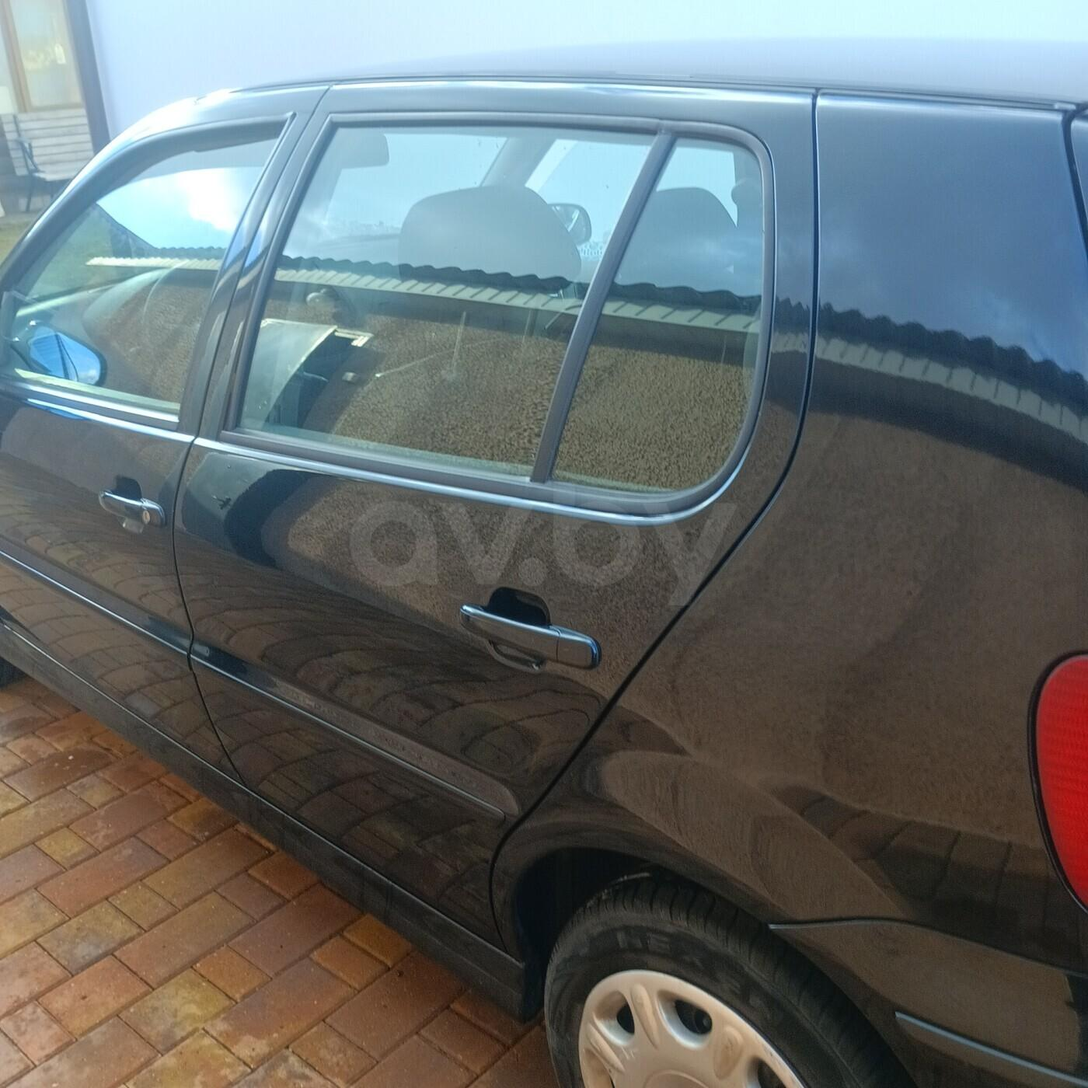Polo_2000-2002: (4, 70, 1088, 1088)
